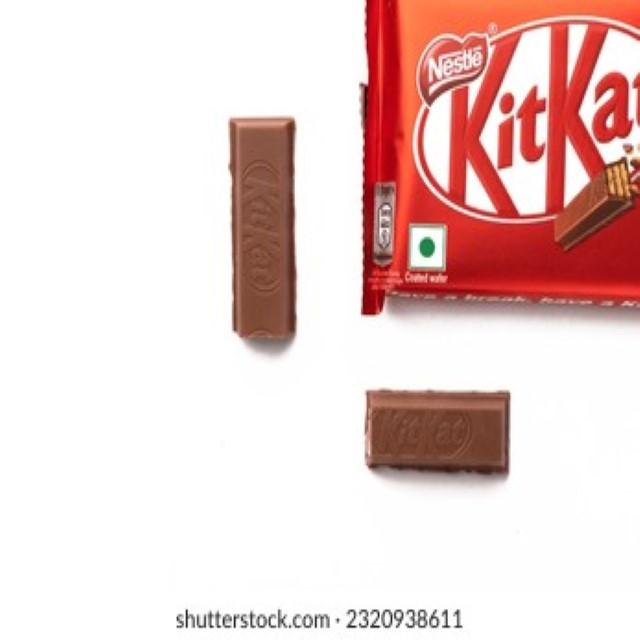kitkat_chocolate: (373, 0, 640, 325)
